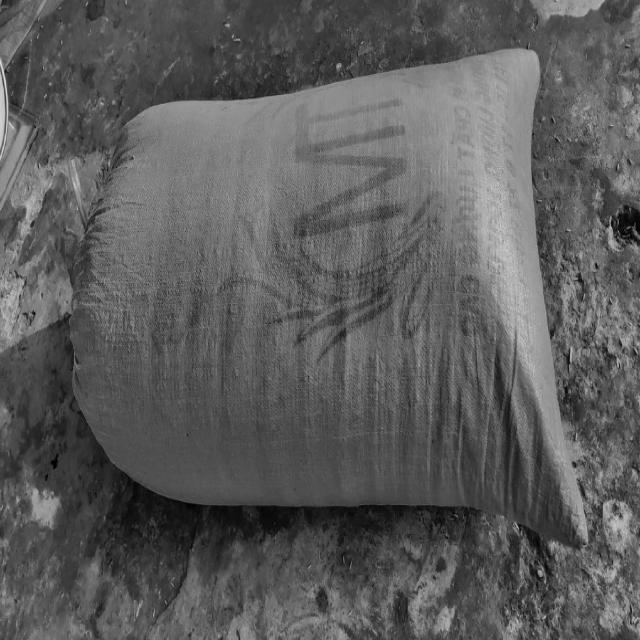gunny_bag: (70, 50, 589, 545)
